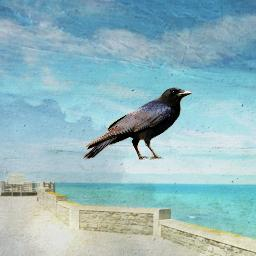Crow: (83, 86, 192, 160)
